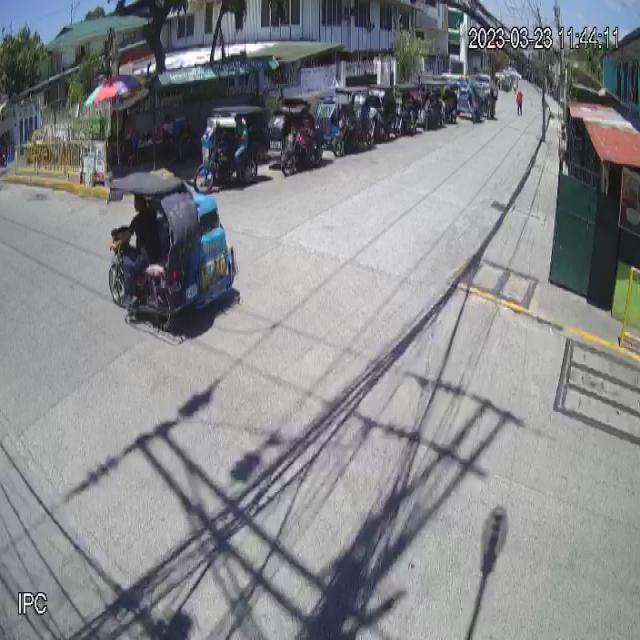Tricycle: (108, 170, 237, 330)
